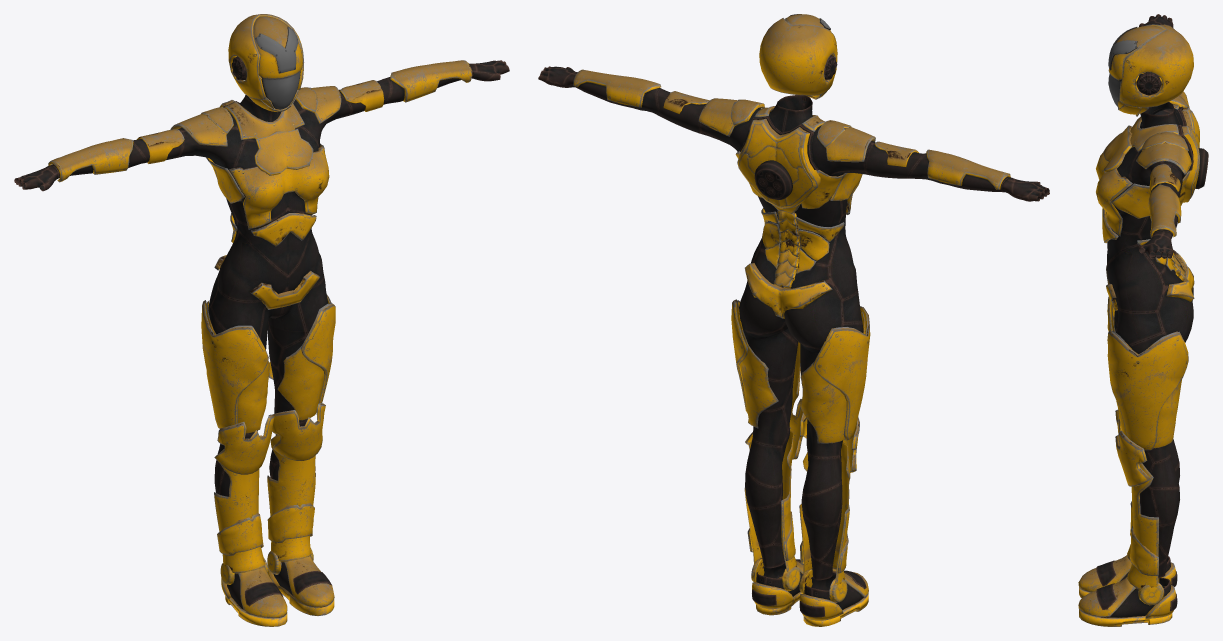
The model's file is procedural_female_scifi_armor_test_3.glb.
3 views of the same model, side by side, from view 1: azimuth 30°, elevation 25°; view 2: azimuth 150°, elevation 25°; view 3: azimuth 270°, elevation 25° (orthographic). The views are drawn at different scales.
Parts seen in each view (by area): view 1: inner_low, Scifi_piece9_low, Scifi_piece5_low, Scifi_piece17_low, Scifi_piece7_low, Scifi_piece20_low, Scifi_piece8_low, shoe_front_piece_low, Scifi_piece3_low, Scifi_piece26_low, Scifi_piece27_low, front_expi_low (+10 smaller); view 2: inner_low, Scifi_piece8_low, Scifi_piece27_low, Scifi_piece9_low, Scifi_piece24_low, Scifi_piece20_low, Scifi_piece5_low, ear_low, Scifi_piece13_low, Scifi_piece22_low, Scifi_piece10_low, Scifi_piece15_low (+9 smaller); view 3: inner_low, Scifi_piece9_low, Scifi_piece27_low, shoe_front_piece_low, Scifi_piece17_low, Scifi_piece5_low, Scifi_piece15_low, Scifi_piece20_low, Scifi_piece26_low, ear_low, Scifi_piece7_low, Scifi_piece8_low (+15 smaller).
Part boxes in pixels (x1=…): inner_low: x1=49, y1=68, x2=473, y2=496; Scifi_piece9_low: x1=201, y1=294, x2=335, y2=428; Scifi_piece5_low: x1=214, y1=421, x2=315, y2=573; Scifi_piece17_low: x1=224, y1=101, x2=329, y2=229; Scifi_piece7_low: x1=214, y1=403, x2=325, y2=474; Scifi_piece20_low: x1=48, y1=60, x2=472, y2=182; Scifi_piece8_low: x1=206, y1=301, x2=328, y2=433; shoe_front_piece_low: x1=238, y1=556, x2=334, y2=618; Scifi_piece3_low: x1=217, y1=503, x2=314, y2=555; Scifi_piece26_low: x1=253, y1=16, x2=302, y2=78; Scifi_piece27_low: x1=228, y1=14, x2=304, y2=99; front_expi_low: x1=254, y1=129, x2=313, y2=175; inner_low: x1=574, y1=82, x2=1009, y2=580; Scifi_piece8_low: x1=736, y1=300, x2=865, y2=443; Scifi_piece27_low: x1=759, y1=18, x2=837, y2=95; Scifi_piece9_low: x1=731, y1=299, x2=870, y2=440; Scifi_piece24_low: x1=737, y1=118, x2=820, y2=208; Scifi_piece20_low: x1=573, y1=69, x2=1010, y2=189; Scifi_piece5_low: x1=744, y1=430, x2=850, y2=584; ear_low: x1=751, y1=55, x2=847, y2=602; Scifi_piece13_low: x1=761, y1=208, x2=844, y2=273; Scifi_piece22_low: x1=698, y1=98, x2=875, y2=162; Scifi_piece10_low: x1=744, y1=263, x2=832, y2=318; Scifi_piece15_low: x1=735, y1=116, x2=862, y2=213; inner_low: x1=1106, y1=102, x2=1193, y2=578; Scifi_piece9_low: x1=1107, y1=296, x2=1188, y2=450; Scifi_piece27_low: x1=1119, y1=24, x2=1193, y2=107; shoe_front_piece_low: x1=1078, y1=555, x2=1135, y2=616; Scifi_piece17_low: x1=1096, y1=103, x2=1179, y2=236; Scifi_piece5_low: x1=1127, y1=463, x2=1158, y2=589; Scifi_piece15_low: x1=1111, y1=106, x2=1193, y2=218; Scifi_piece20_low: x1=1148, y1=24, x2=1181, y2=237; Scifi_piece26_low: x1=1108, y1=25, x2=1164, y2=82; ear_low: x1=1136, y1=72, x2=1208, y2=605; Scifi_piece7_low: x1=1115, y1=409, x2=1150, y2=486; Scifi_piece8_low: x1=1111, y1=304, x2=1181, y2=448.
Size of the model in its own units: 1.55 by 1.74 by 0.3563.
Materials: 1 (1 with a texture image).
